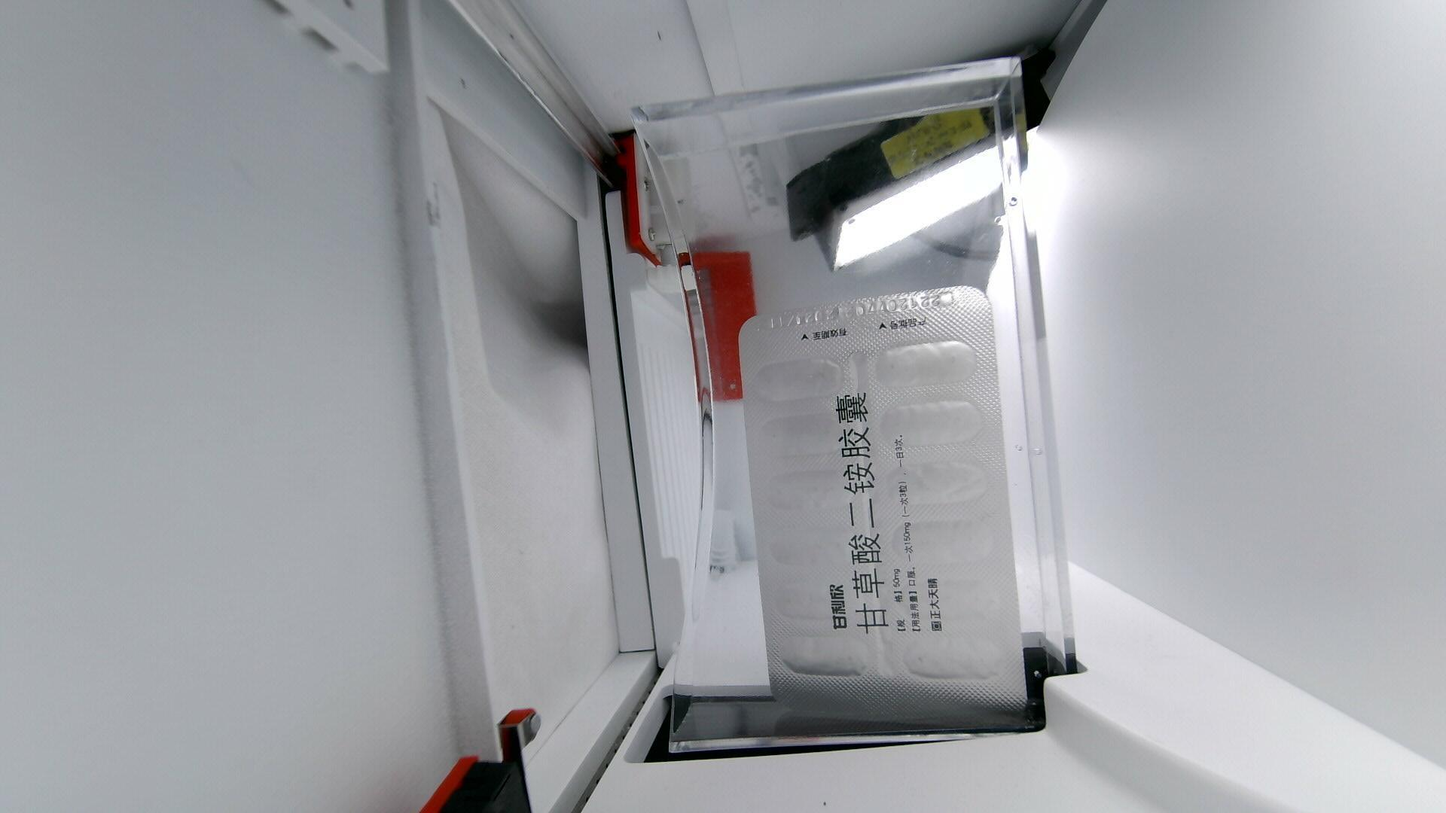Pill Back: (874, 400, 993, 449), (871, 340, 990, 388), (884, 517, 998, 566), (895, 628, 1008, 677), (886, 577, 1005, 621), (746, 355, 853, 401), (879, 466, 993, 507), (763, 529, 883, 565), (779, 635, 871, 681), (753, 414, 852, 455), (768, 470, 862, 508), (773, 589, 869, 623)
